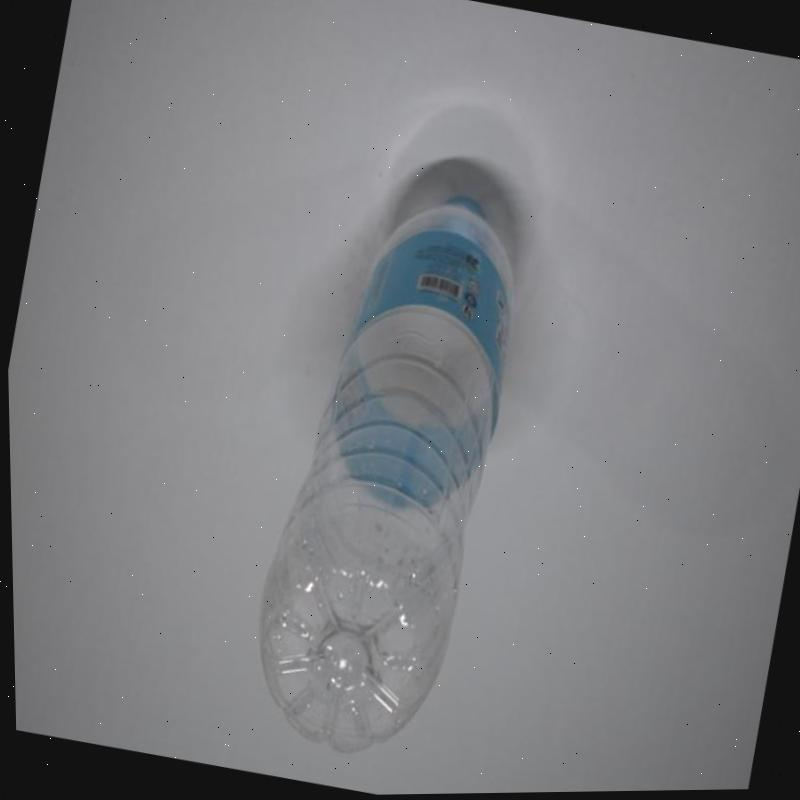botella: (219, 165, 543, 768)
